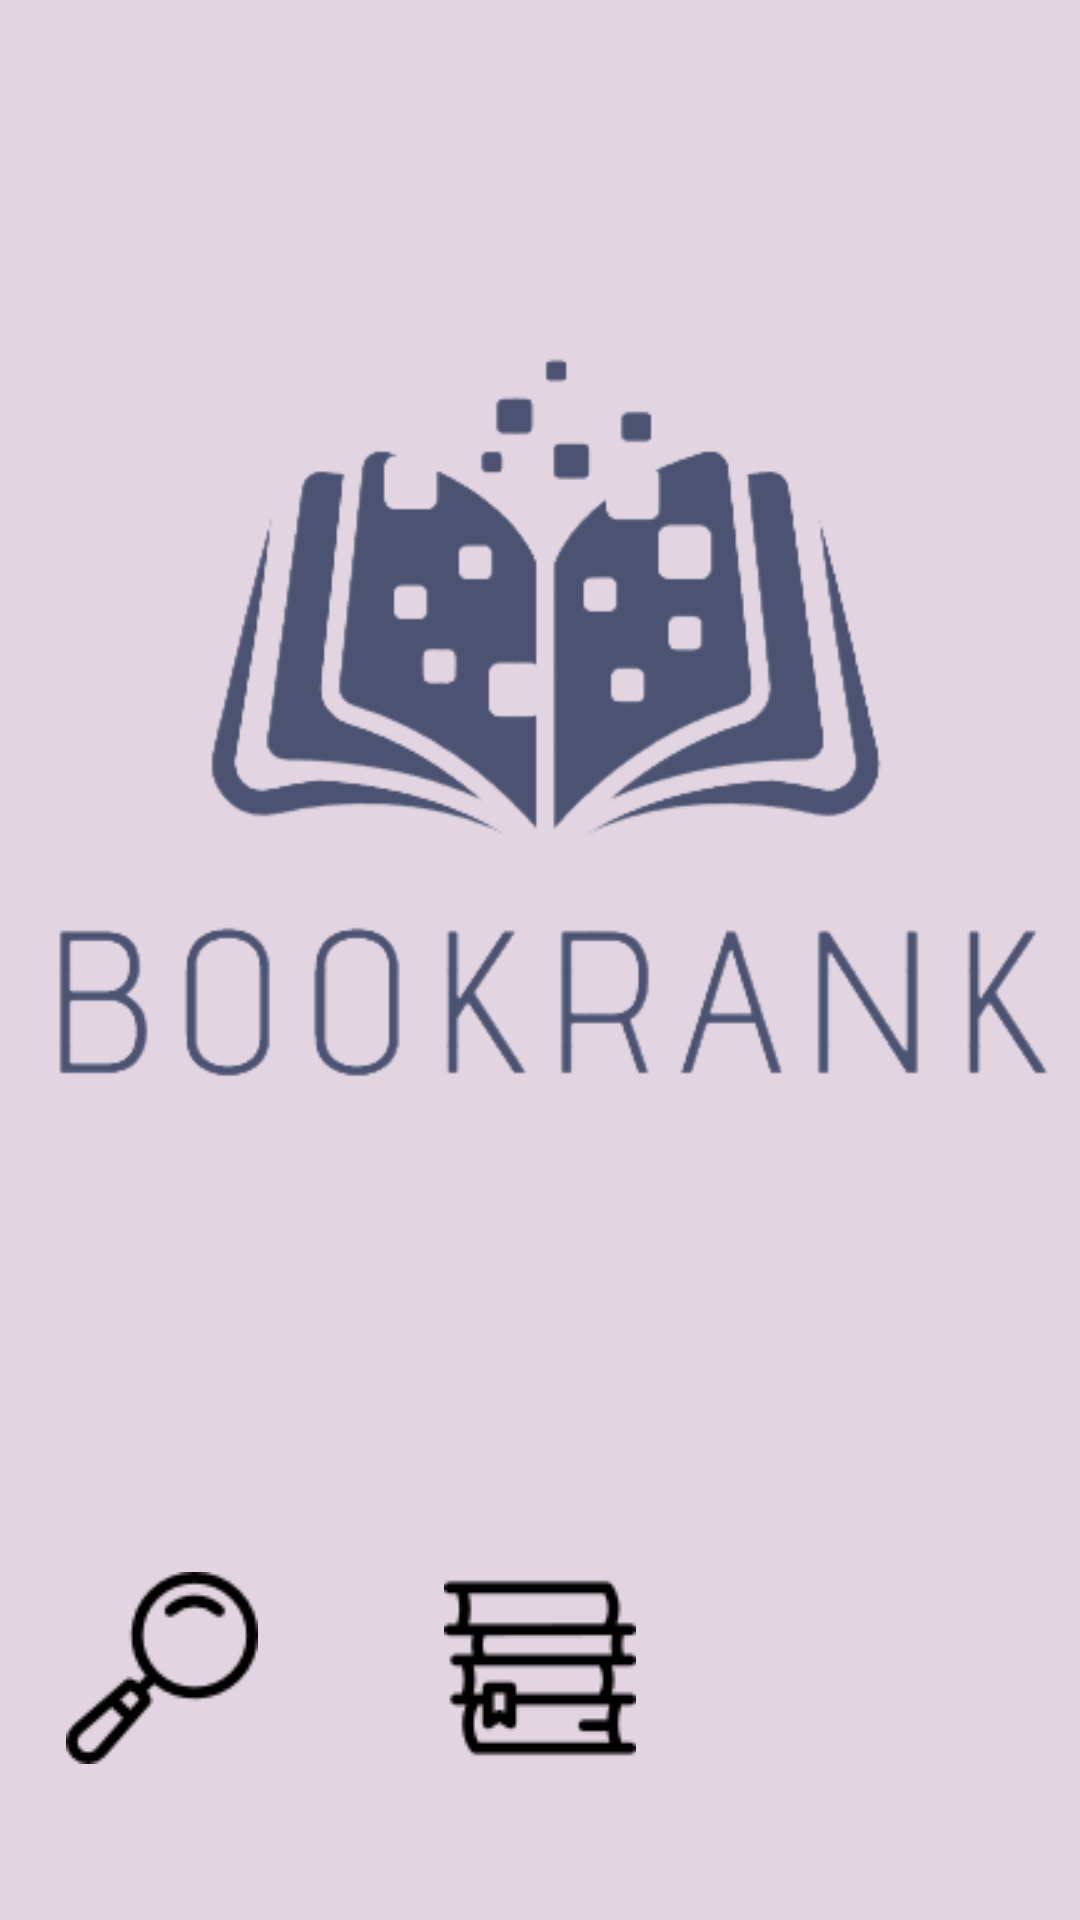

Icons on this 1080px×1920px Android screen, each with the point to tap as (x=x, y=y):
libros: (x=540, y=1668)
lupa: (x=162, y=1668)
